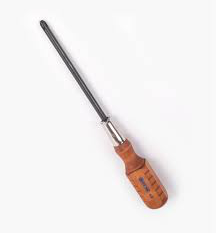Screwdriver: (28, 13, 174, 222)
